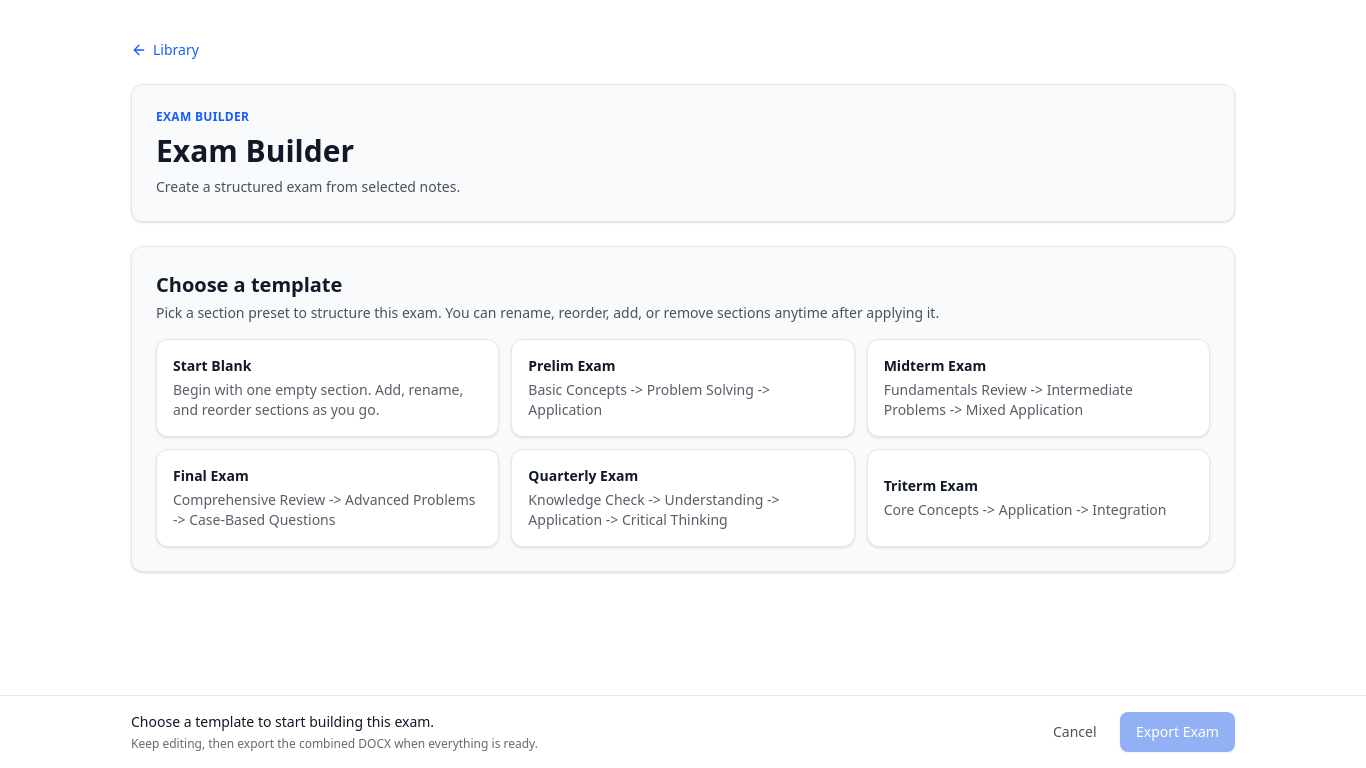
Exam Builder page › keeps balance guidance compact and renders section composition as chips
Click the button "Prelim Exam Basic Concepts -> Problem Solving -> Application".
click(683, 388)  # box [511, 339, 855, 437]
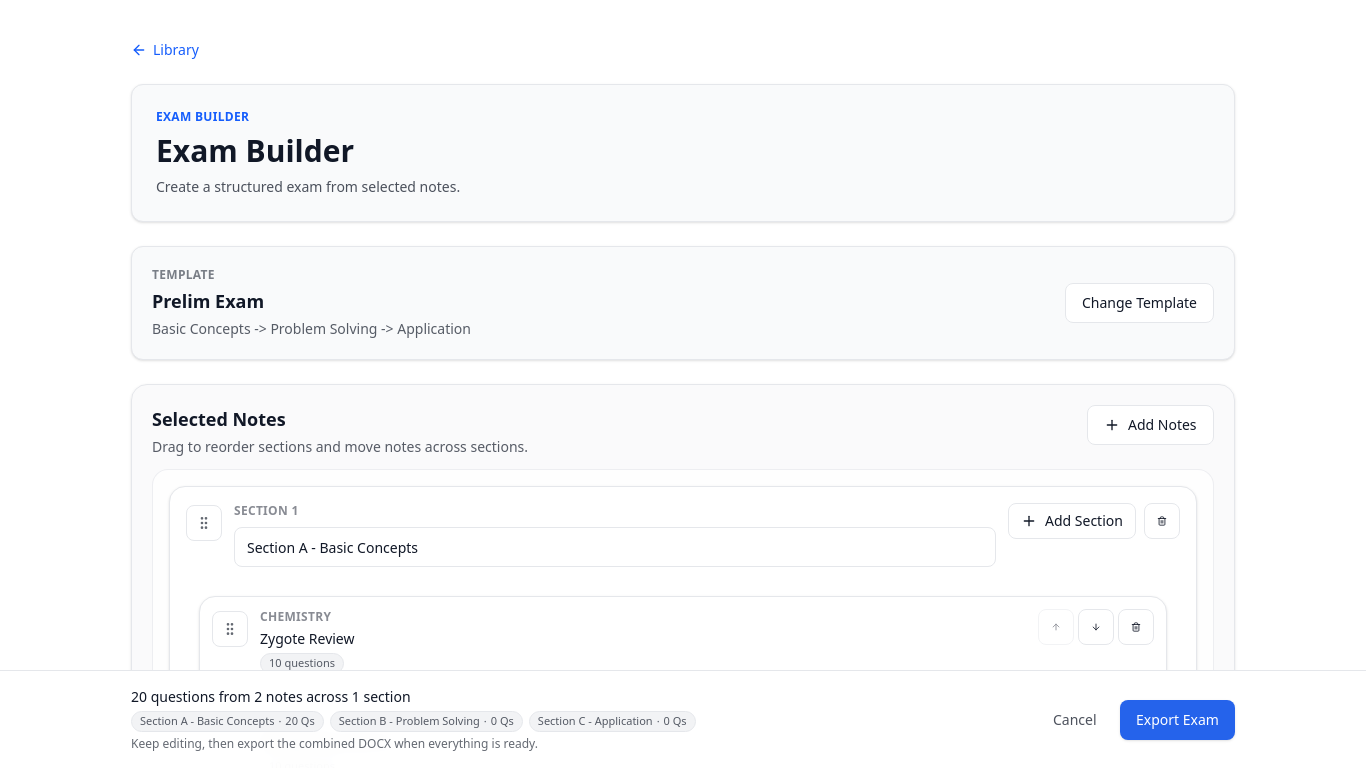
Result: the text "Section A - Basic Concepts" is shown at [140, 714, 274, 729]
Result: the text "20 Qs" is shown at [285, 714, 315, 729]
